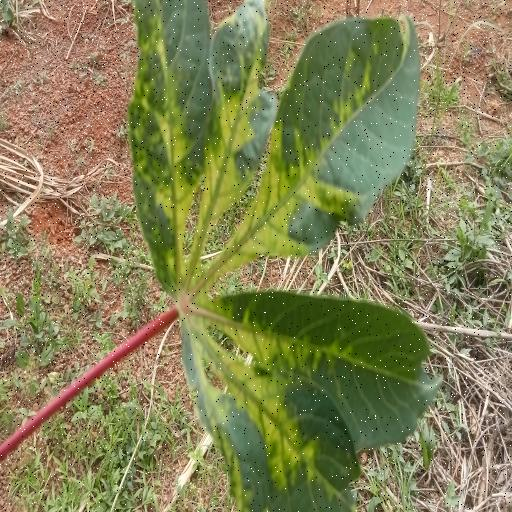Cassava_Mosaic: (130, 0, 446, 512)
